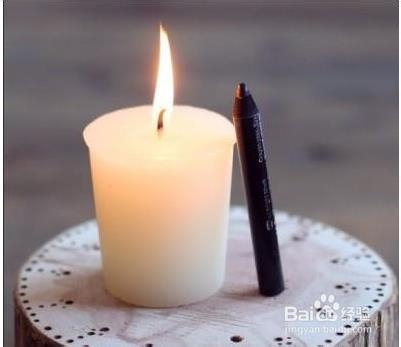Fire: (146, 23, 177, 132)
